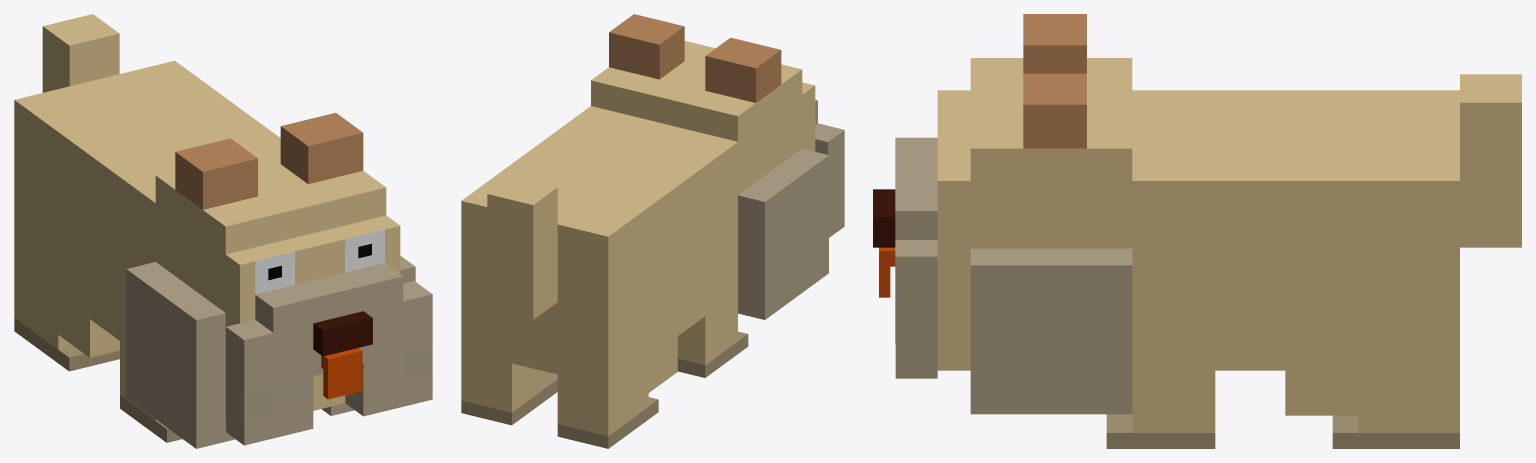
The model's file is LOST_DOG_01.fbx.
The picture shows the model from 3 angles, left to right: view 1: azimuth 30°, elevation 25°; view 2: azimuth 150°, elevation 25°; view 3: azimuth 270°, elevation 25°; orthographic projection. The views are drawn at different scales.
Visible parts, largest first — view 1: Lost_Dog_01; view 2: Lost_Dog_01; view 3: Lost_Dog_01.
Boxes of the visible parts, box(x1,y1,x2,y2) form: Lost_Dog_01: box(14, 14, 432, 448); Lost_Dog_01: box(461, 14, 844, 448); Lost_Dog_01: box(873, 14, 1521, 448).
Size of the model in its own units: 5.68 by 7.36 by 12.58.
